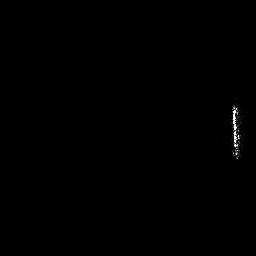ship: (230, 105, 240, 161)
